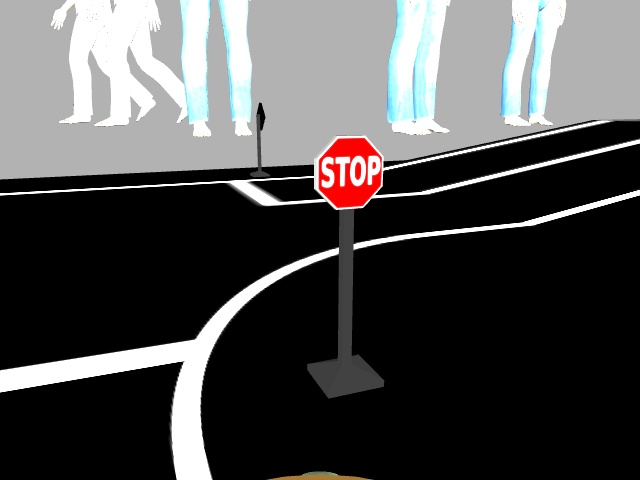Stop: (316, 137, 381, 208)
